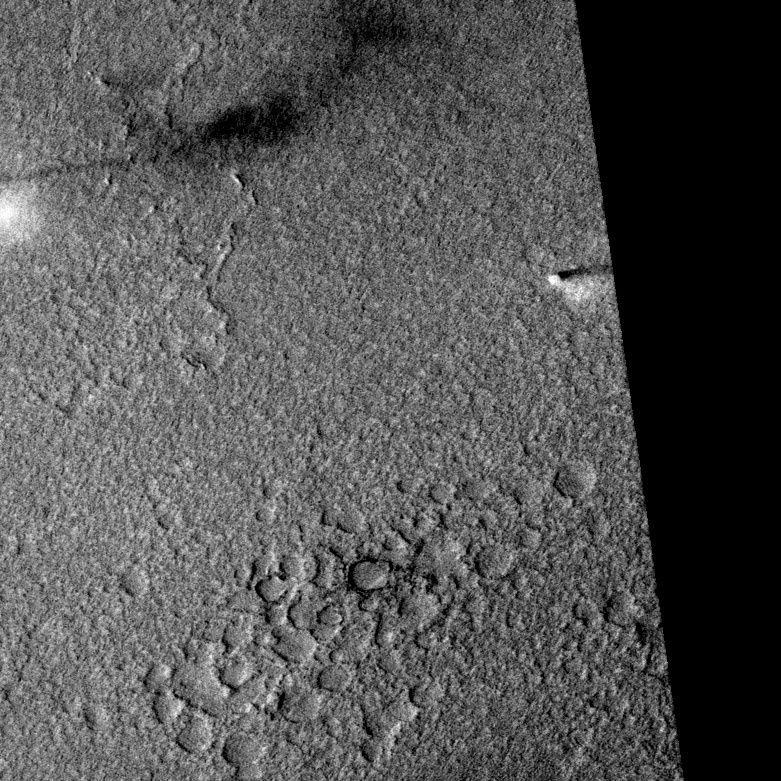dust_devil: (1, 92, 316, 242), (546, 261, 613, 303)
